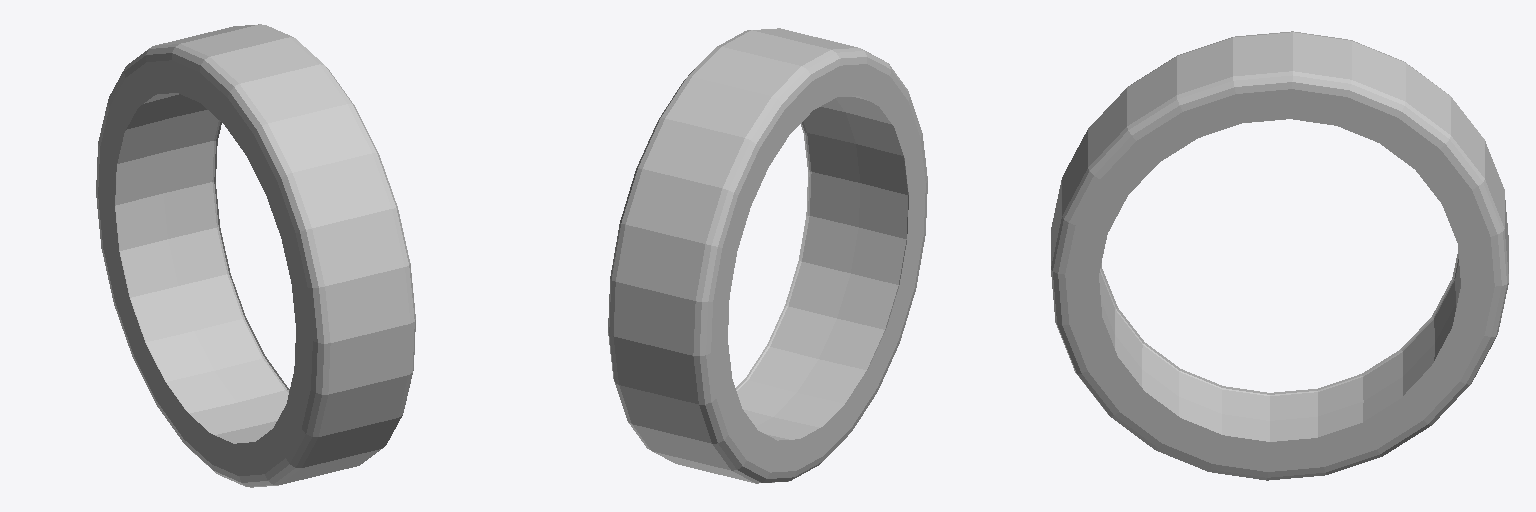
File: original-19.obj
3 views of the same model, side by side, from view 1: azimuth 30°, elevation 25°; view 2: azimuth 150°, elevation 25°; view 3: azimuth 270°, elevation 25° (orthographic).
Visible parts, largest first — view 1: W-1030-RL-1_15_16_1/mesh18/mesh18-geometry#mesh18-geometry; view 2: W-1030-RL-1_15_16_1/mesh18/mesh18-geometry#mesh18-geometry; view 3: W-1030-RL-1_15_16_1/mesh18/mesh18-geometry#mesh18-geometry.
Boxes of the visible parts, x1,y1,x2,y2 form: W-1030-RL-1_15_16_1/mesh18/mesh18-geometry#mesh18-geometry: [96, 24, 415, 487]; W-1030-RL-1_15_16_1/mesh18/mesh18-geometry#mesh18-geometry: [608, 28, 927, 483]; W-1030-RL-1_15_16_1/mesh18/mesh18-geometry#mesh18-geometry: [1051, 31, 1508, 480].
Bounding box in the file's own units: 0.0632 × 0.2444 × 0.2484.